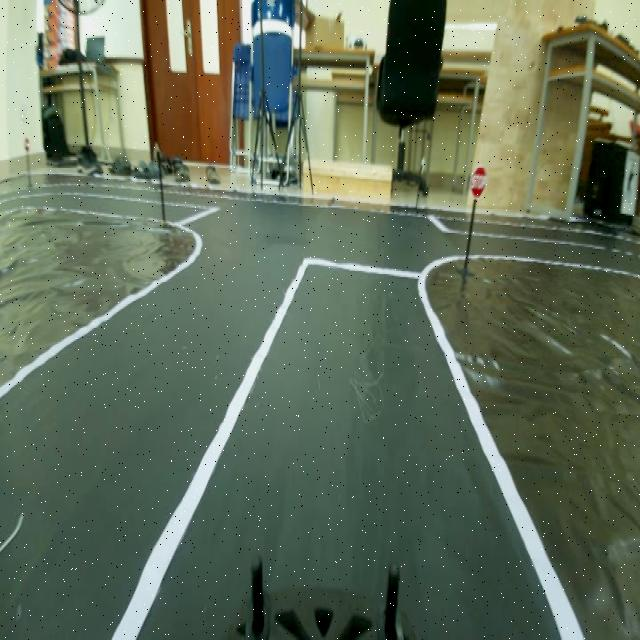stop: (469, 158, 491, 206)
